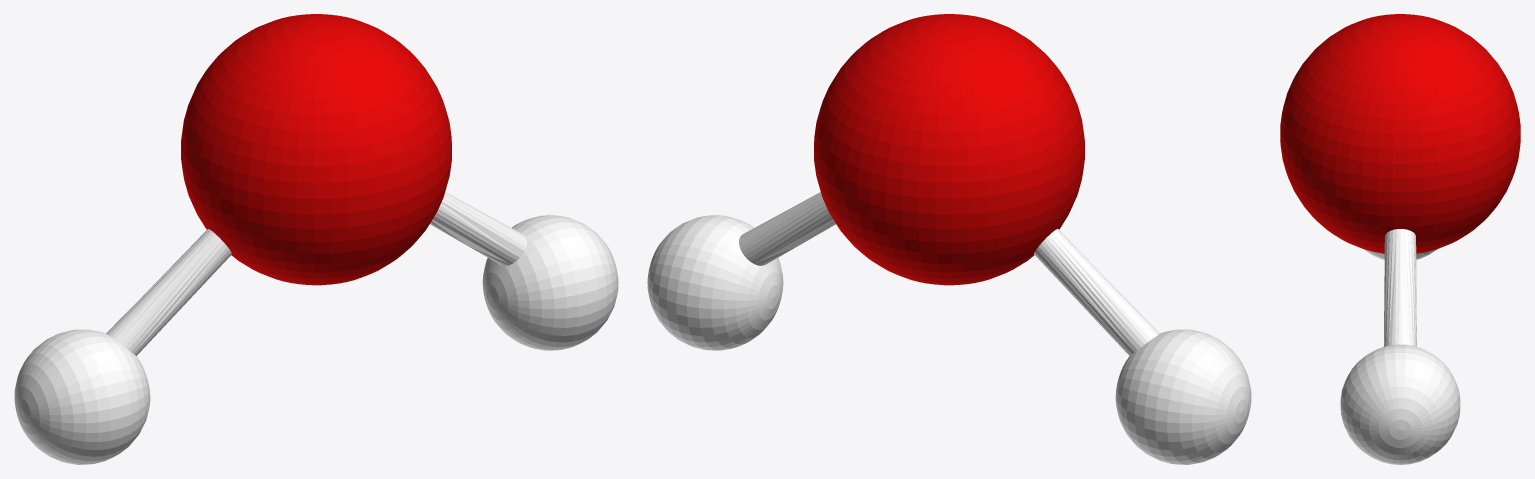
The picture shows the model from 3 angles, left to right: view 1: azimuth 30°, elevation 25°; view 2: azimuth 150°, elevation 25°; view 3: azimuth 270°, elevation 25°; orthographic projection. The views are drawn at different scales.
Bounding box in the file's own units: 0.2788 × 0.1705 × 0.1117.
